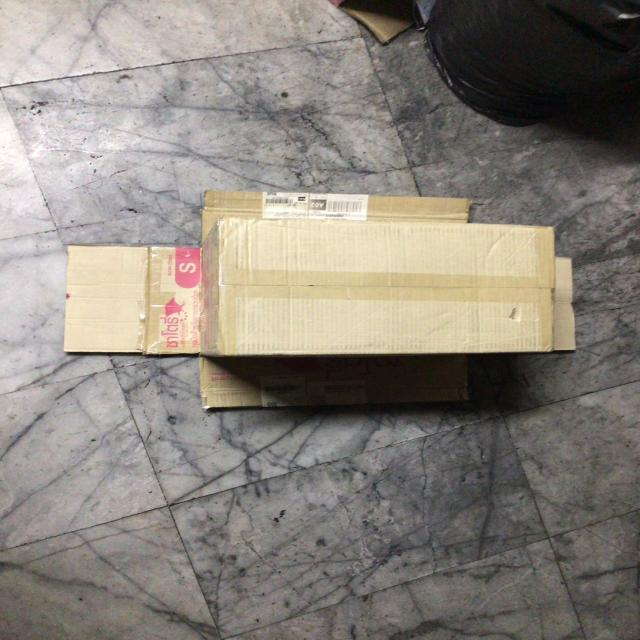cardboard: (64, 179, 581, 405)
